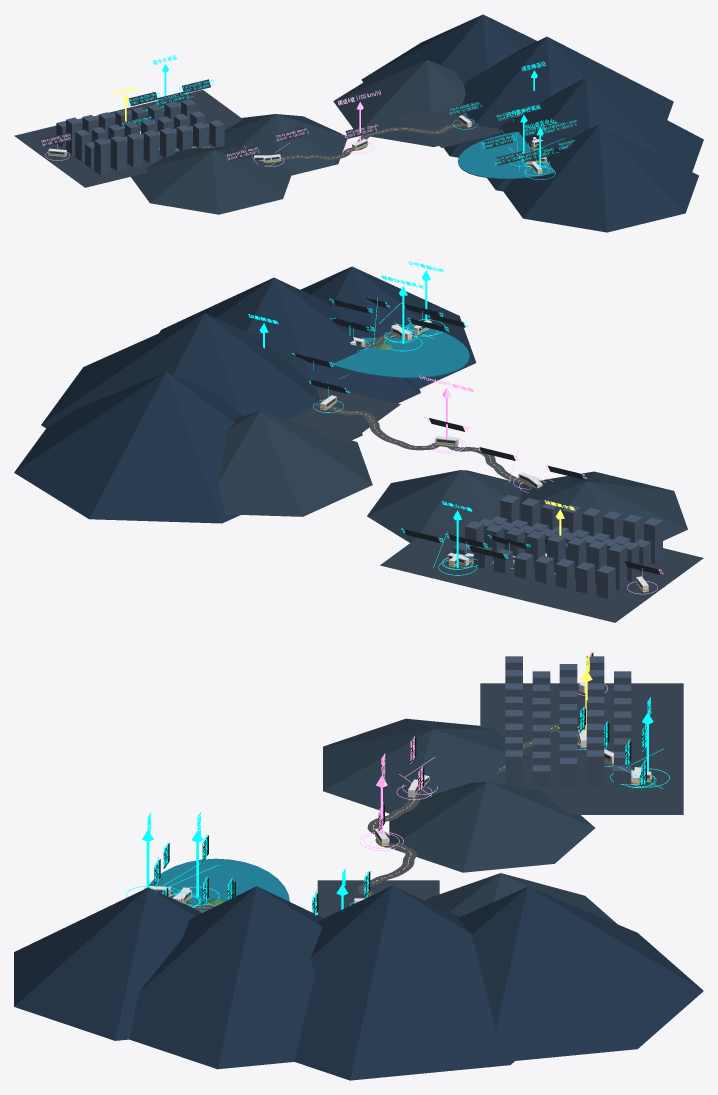
Rendered from 6670_sunmoonlake_panorama.glb.
3 renders of one model, top to bottom at view 1: azimuth 30°, elevation 25°; view 2: azimuth 150°, elevation 25°; view 3: azimuth 270°, elevation 25°, orthographic. The views are drawn at different scales.
Parts seen in each view (by area): view 1: Mtn_Shuishe_Great, Mtn_East_2, Mtn_East_3, Mtn_Baguashan, Mtn_Puli_N, Mtn_East_1, Mtn_Wufeng, Plane, Cylinder, Plane.001, RealRoad_6670, Cube (+8 smaller); view 2: Mtn_East_1, Mtn_East_2, Mtn_Puli_N, Mtn_East_3, Plane, Mtn_Wufeng, Mtn_Baguashan, Mtn_Shuishe_Great, Cylinder, Plane.001, RealRoad_6670, Cube.003 (+2 smaller); view 3: Mtn_East_2, Mtn_East_1, Mtn_East_3, Mtn_Shuishe_Great, Plane, Mtn_Wufeng, Mtn_Baguashan, Cylinder, Mtn_Puli_N, Plane.001, RealRoad_6670, Cube.038.
Part boxes in pixels (bbox=[...]): Mtn_Shuishe_Great: bbox=[503, 124, 698, 232]; Mtn_East_2: bbox=[444, 36, 673, 157]; Mtn_East_3: bbox=[487, 77, 703, 191]; Mtn_Baguashan: bbox=[131, 146, 292, 214]; Mtn_Puli_N: bbox=[333, 60, 465, 146]; Mtn_East_1: bbox=[361, 14, 537, 84]; Mtn_Wufeng: bbox=[224, 114, 347, 175]; Plane: bbox=[14, 90, 242, 187]; Cylinder: bbox=[457, 131, 554, 178]; Plane.001: bbox=[399, 109, 501, 147]; RealRoad_6670: bbox=[159, 120, 543, 171]; Cube: bbox=[94, 138, 109, 175]; Mtn_East_1: bbox=[14, 372, 243, 523]; Mtn_East_2: bbox=[41, 313, 362, 439]; Mtn_Puli_N: bbox=[218, 411, 372, 516]; Mtn_East_3: bbox=[159, 277, 420, 403]; Plane: bbox=[380, 528, 703, 622]; Mtn_Wufeng: bbox=[367, 470, 523, 542]; Mtn_Baguashan: bbox=[519, 471, 687, 540]; Mtn_Shuishe_Great: bbox=[300, 266, 476, 388]; Cylinder: bbox=[332, 323, 469, 378]; Plane.001: bbox=[286, 388, 400, 443]; RealRoad_6670: bbox=[313, 331, 531, 564]; Cube.003: bbox=[608, 543, 627, 589]; Mtn_East_2: bbox=[294, 886, 514, 1080]; Mtn_East_1: bbox=[458, 886, 703, 1060]; Mtn_East_3: bbox=[129, 886, 323, 1069]; Mtn_Shuishe_Great: bbox=[14, 887, 201, 1040]; Plane: bbox=[480, 683, 683, 814]; Mtn_Wufeng: bbox=[389, 782, 594, 872]; Mtn_Baguashan: bbox=[323, 718, 529, 813]; Cylinder: bbox=[149, 858, 289, 912]; Mtn_Puli_N: bbox=[425, 873, 616, 923]; Plane.001: bbox=[317, 880, 439, 918]; RealRoad_6670: bbox=[170, 724, 613, 910]; Cube.038: bbox=[586, 750, 604, 786].
Bounding box in the file's own units: 134 × 19 × 102.
